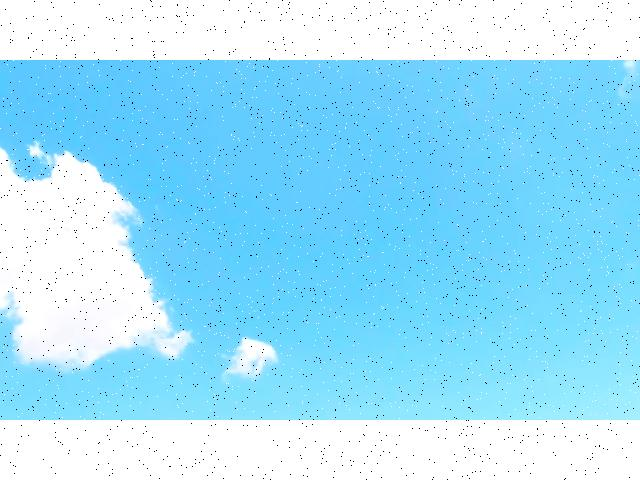Anti-Drone: (247, 302, 263, 320)
